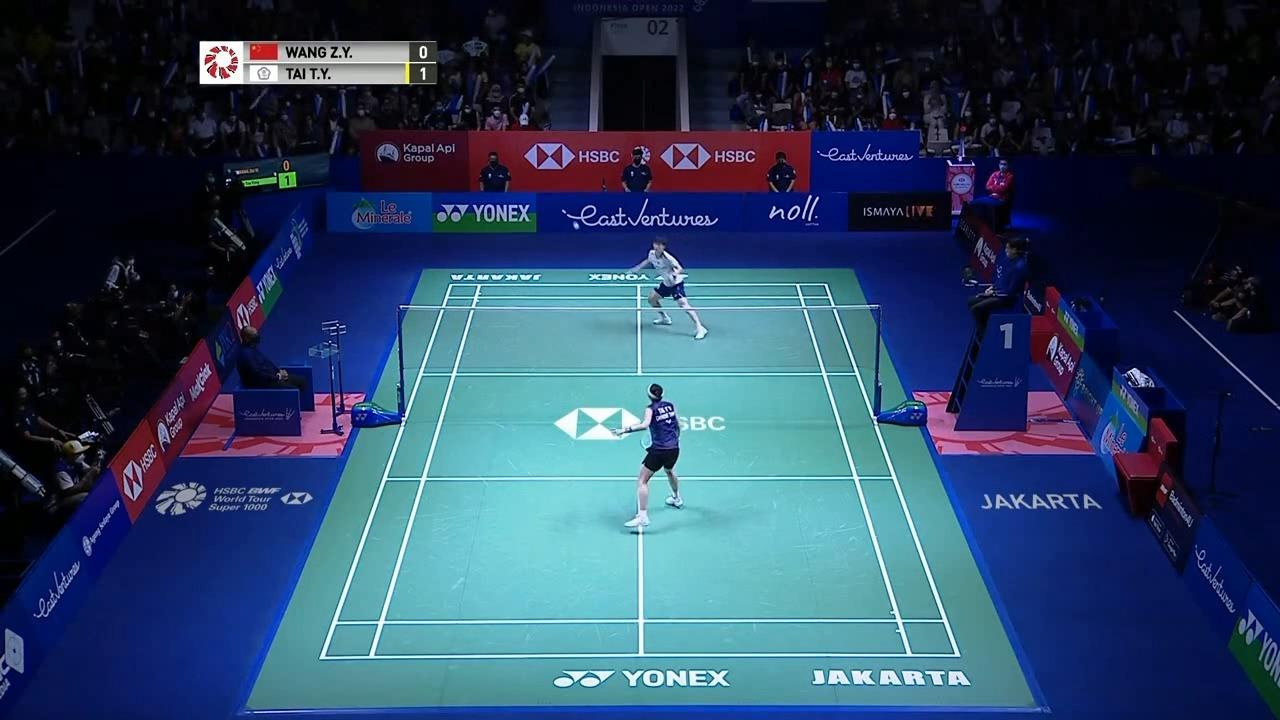shuttle: (573, 222, 578, 230)
